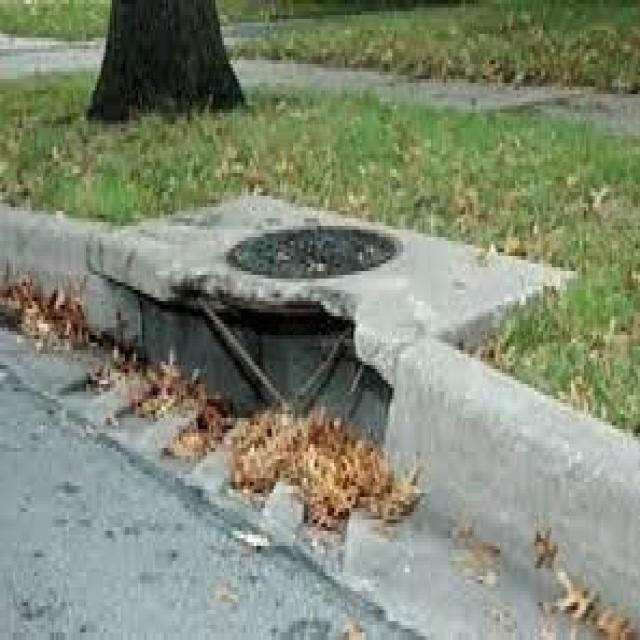curb: (382, 340, 635, 637), (6, 204, 145, 348)
